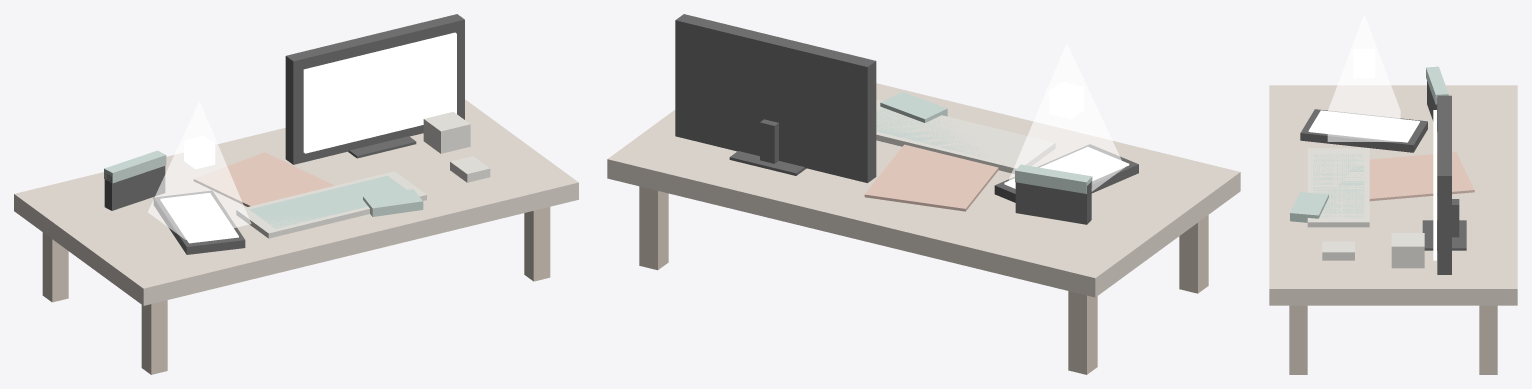
The model's file is desk.glb.
3 renders of one model, left to right at view 1: azimuth 30°, elevation 25°; view 2: azimuth 150°, elevation 25°; view 3: azimuth 270°, elevation 25°, orthographic. The views are drawn at different scales.
Visible parts, largest first — view 1: DeskTop, MonitorScreen, ARBeam, Monitor, Sketchbook, KeyPlate, PhoneScreen, Keyboard, DeskLeg_4, DeskLeg_3, Clapper, Mug (+7 smaller); view 2: DeskTop, Monitor, ARBeam, Keyboard, Sketchbook, Clapper, DeskLeg_1, DeskLeg_2, DeskLeg_3, KeyPlate, PhoneScreen, ClapperTop (+5 smaller); view 3: DeskTop, ARBeam, Keyboard, Sketchbook, Monitor, PhoneScreen, KeyPlate, Phone, DeskLeg_2, DeskLeg_4, Mug, Handheld (+7 smaller).
Part boxes in pixels (x1=…): DeskTop: x1=14, y1=99, x2=578, y2=305; MonitorScreen: x1=303, y1=32, x2=456, y2=153; ARBeam: x1=148, y1=101, x2=251, y2=239; Monitor: x1=285, y1=14, x2=464, y2=164; Sketchbook: x1=194, y1=152, x2=334, y2=206; KeyPlate: x1=249, y1=175, x2=406, y2=228; PhoneScreen: x1=160, y1=193, x2=238, y2=243; Keyboard: x1=236, y1=171, x2=426, y2=238; DeskLeg_4: x1=524, y1=207, x2=550, y2=281; DeskLeg_3: x1=141, y1=300, x2=167, y2=374; Clapper: x1=104, y1=166, x2=165, y2=210; Mug: x1=423, y1=111, x2=470, y2=153; DeskTop: x1=607, y1=83, x2=1240, y2=297; Monitor: x1=675, y1=14, x2=876, y2=182; ARBeam: x1=1009, y1=43, x2=1124, y2=191; Keyboard: x1=876, y1=99, x2=1055, y2=173; Sketchbook: x1=864, y1=144, x2=998, y2=211; Clapper: x1=1015, y1=181, x2=1091, y2=224; DeskLeg_1: x1=1068, y1=291, x2=1097, y2=374; DeskLeg_2: x1=639, y1=186, x2=668, y2=270; DeskLeg_3: x1=1179, y1=215, x2=1208, y2=293; KeyPlate: x1=876, y1=107, x2=997, y2=159; PhoneScreen: x1=1004, y1=147, x2=1129, y2=188; ClapperTop: x1=1015, y1=164, x2=1092, y2=193; DeskTop: x1=1269, y1=85, x2=1517, y2=305; ARBeam: x1=1327, y1=14, x2=1400, y2=141; Keyboard: x1=1307, y1=148, x2=1369, y2=227; Sketchbook: x1=1369, y1=152, x2=1474, y2=201; Monitor: x1=1437, y1=95, x2=1451, y2=274; PhoneScreen: x1=1308, y1=110, x2=1419, y2=142; KeyPlate: x1=1313, y1=154, x2=1364, y2=217; Phone: x1=1300, y1=109, x2=1427, y2=152; DeskLeg_2: x1=1479, y1=305, x2=1497, y2=374; DeskLeg_4: x1=1289, y1=305, x2=1307, y2=374; Mug: x1=1391, y1=233, x2=1424, y2=268; Handheld: x1=1290, y1=192, x2=1328, y2=222.
Size of the model in its own units: 6.6 by 3.25 by 3.4.
